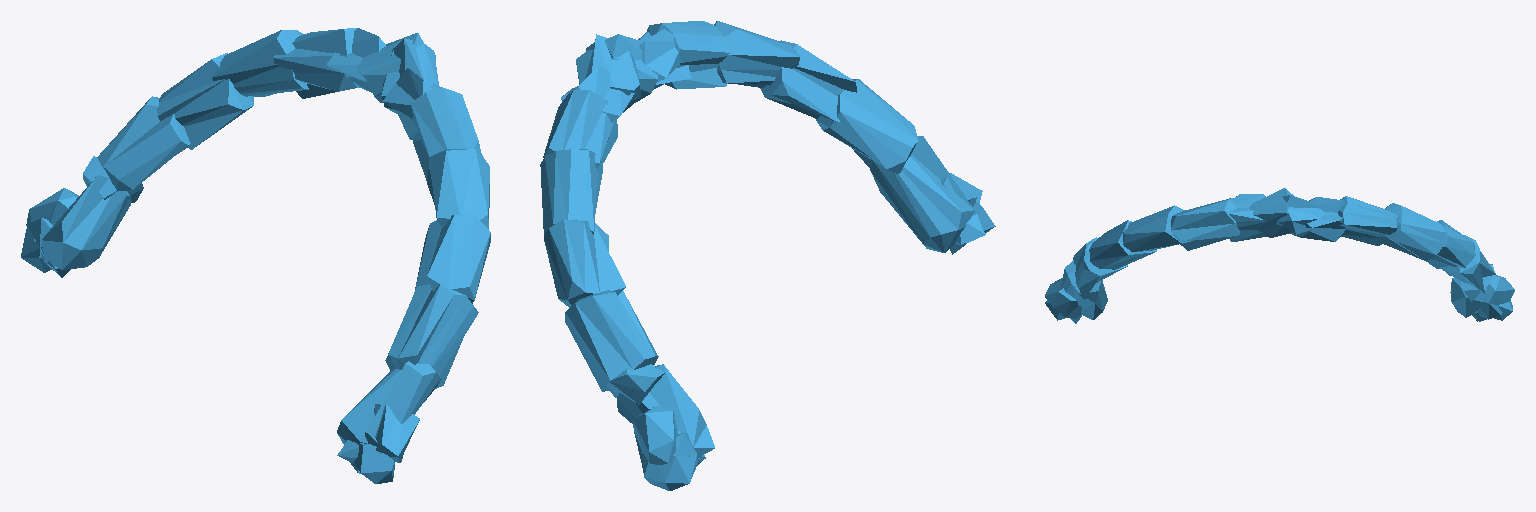
The robot description file, URDF, robot "partnet_3157ca03de3655acf3891d3e63e0baa5":
<?xml version="1.0" ?><robot name="partnet_3157ca03de3655acf3891d3e63e0baa5">
	<link name="base"/>
	<link name="link_0">
		<visual>
			<origin xyz="0 -0.430500873641537 0.06576132556510857"/>
			<geometry>
				<mesh filename="new_objs/100439_link_0_6.obj"/>
			</geometry>
		</visual>
	<visual>
			<origin xyz="0 -0.430500873641537 0.06576132556510857"/>
			<geometry>
				<mesh filename="new_objs/100439_link_0_4.obj"/>
			</geometry>
		</visual>
	<visual>
			<origin xyz="0 -0.430500873641537 0.06576132556510857"/>
			<geometry>
				<mesh filename="new_objs/100439_link_0_18.obj"/>
			</geometry>
		</visual>
	<visual>
			<origin xyz="0 -0.430500873641537 0.06576132556510857"/>
			<geometry>
				<mesh filename="new_objs/100439_link_0_12.obj"/>
			</geometry>
		</visual>
	<visual>
			<origin xyz="0 -0.430500873641537 0.06576132556510857"/>
			<geometry>
				<mesh filename="new_objs/100439_link_0_17.obj"/>
			</geometry>
		</visual>
	<visual>
			<origin xyz="0 -0.430500873641537 0.06576132556510857"/>
			<geometry>
				<mesh filename="new_objs/100439_link_0_20.obj"/>
			</geometry>
		</visual>
	<visual>
			<origin xyz="0 -0.430500873641537 0.06576132556510857"/>
			<geometry>
				<mesh filename="new_objs/100439_link_0_11.obj"/>
			</geometry>
		</visual>
	<visual>
			<origin xyz="0 -0.430500873641537 0.06576132556510857"/>
			<geometry>
				<mesh filename="new_objs/100439_link_0_23.obj"/>
			</geometry>
		</visual>
	<visual>
			<origin xyz="0 -0.430500873641537 0.06576132556510857"/>
			<geometry>
				<mesh filename="new_objs/100439_link_0_22.obj"/>
			</geometry>
		</visual>
	<visual>
			<origin xyz="0 -0.430500873641537 0.06576132556510857"/>
			<geometry>
				<mesh filename="new_objs/100439_link_0_7.obj"/>
			</geometry>
		</visual>
	<visual>
			<origin xyz="0 -0.430500873641537 0.06576132556510857"/>
			<geometry>
				<mesh filename="new_objs/100439_link_0_8.obj"/>
			</geometry>
		</visual>
	<visual>
			<origin xyz="0 -0.430500873641537 0.06576132556510857"/>
			<geometry>
				<mesh filename="new_objs/100439_link_0_21.obj"/>
			</geometry>
		</visual>
	<visual>
			<origin xyz="0 -0.430500873641537 0.06576132556510857"/>
			<geometry>
				<mesh filename="new_objs/100439_link_0_9.obj"/>
			</geometry>
		</visual>
	<visual>
			<origin xyz="0 -0.430500873641537 0.06576132556510857"/>
			<geometry>
				<mesh filename="new_objs/100439_link_0_16.obj"/>
			</geometry>
		</visual>
	<visual>
			<origin xyz="0 -0.430500873641537 0.06576132556510857"/>
			<geometry>
				<mesh filename="new_objs/100439_link_0_10.obj"/>
			</geometry>
		</visual>
	<visual>
			<origin xyz="0 -0.430500873641537 0.06576132556510857"/>
			<geometry>
				<mesh filename="new_objs/100439_link_0_2.obj"/>
			</geometry>
		</visual>
	<visual>
			<origin xyz="0 -0.430500873641537 0.06576132556510857"/>
			<geometry>
				<mesh filename="new_objs/100439_link_0_19.obj"/>
			</geometry>
		</visual>
	<visual>
			<origin xyz="0 -0.430500873641537 0.06576132556510857"/>
			<geometry>
				<mesh filename="new_objs/100439_link_0_14.obj"/>
			</geometry>
		</visual>
	<visual>
			<origin xyz="0 -0.430500873641537 0.06576132556510857"/>
			<geometry>
				<mesh filename="new_objs/100439_link_0_5.obj"/>
			</geometry>
		</visual>
	<visual>
			<origin xyz="0 -0.430500873641537 0.06576132556510857"/>
			<geometry>
				<mesh filename="new_objs/100439_link_0_15.obj"/>
			</geometry>
		</visual>
	<visual>
			<origin xyz="0 -0.430500873641537 0.06576132556510857"/>
			<geometry>
				<mesh filename="new_objs/100439_link_0_1.obj"/>
			</geometry>
		</visual>
	<visual>
			<origin xyz="0 -0.430500873641537 0.06576132556510857"/>
			<geometry>
				<mesh filename="new_objs/100439_link_0_3.obj"/>
			</geometry>
		</visual>
	<visual>
			<origin xyz="0 -0.430500873641537 0.06576132556510857"/>
			<geometry>
				<mesh filename="new_objs/100439_link_0_13.obj"/>
			</geometry>
		</visual>
	<visual>
			<origin xyz="0 -0.430500873641537 0.06576132556510857"/>
			<geometry>
				<mesh filename="new_objs/100439_link_0_0.obj"/>
			</geometry>
		</visual>
	
		<collision>
			<origin xyz="0 -0.430500873641537 0.06576132556510857"/>
			<geometry>
				<mesh filename="new_objs/100439_link_0_6.obj"/>
			</geometry>
		</collision><collision>
			<origin xyz="0 -0.430500873641537 0.06576132556510857"/>
			<geometry>
				<mesh filename="new_objs/100439_link_0_4.obj"/>
			</geometry>
		</collision><collision>
			<origin xyz="0 -0.430500873641537 0.06576132556510857"/>
			<geometry>
				<mesh filename="new_objs/100439_link_0_18.obj"/>
			</geometry>
		</collision><collision>
			<origin xyz="0 -0.430500873641537 0.06576132556510857"/>
			<geometry>
				<mesh filename="new_objs/100439_link_0_12.obj"/>
			</geometry>
		</collision><collision>
			<origin xyz="0 -0.430500873641537 0.06576132556510857"/>
			<geometry>
				<mesh filename="new_objs/100439_link_0_17.obj"/>
			</geometry>
		</collision><collision>
			<origin xyz="0 -0.430500873641537 0.06576132556510857"/>
			<geometry>
				<mesh filename="new_objs/100439_link_0_20.obj"/>
			</geometry>
		</collision><collision>
			<origin xyz="0 -0.430500873641537 0.06576132556510857"/>
			<geometry>
				<mesh filename="new_objs/100439_link_0_11.obj"/>
			</geometry>
		</collision><collision>
			<origin xyz="0 -0.430500873641537 0.06576132556510857"/>
			<geometry>
				<mesh filename="new_objs/100439_link_0_23.obj"/>
			</geometry>
		</collision><collision>
			<origin xyz="0 -0.430500873641537 0.06576132556510857"/>
			<geometry>
				<mesh filename="new_objs/100439_link_0_22.obj"/>
			</geometry>
		</collision><collision>
			<origin xyz="0 -0.430500873641537 0.06576132556510857"/>
			<geometry>
				<mesh filename="new_objs/100439_link_0_7.obj"/>
			</geometry>
		</collision><collision>
			<origin xyz="0 -0.430500873641537 0.06576132556510857"/>
			<geometry>
				<mesh filename="new_objs/100439_link_0_8.obj"/>
			</geometry>
		</collision><collision>
			<origin xyz="0 -0.430500873641537 0.06576132556510857"/>
			<geometry>
				<mesh filename="new_objs/100439_link_0_21.obj"/>
			</geometry>
		</collision><collision>
			<origin xyz="0 -0.430500873641537 0.06576132556510857"/>
			<geometry>
				<mesh filename="new_objs/100439_link_0_9.obj"/>
			</geometry>
		</collision><collision>
			<origin xyz="0 -0.430500873641537 0.06576132556510857"/>
			<geometry>
				<mesh filename="new_objs/100439_link_0_16.obj"/>
			</geometry>
		</collision><collision>
			<origin xyz="0 -0.430500873641537 0.06576132556510857"/>
			<geometry>
				<mesh filename="new_objs/100439_link_0_10.obj"/>
			</geometry>
		</collision><collision>
			<origin xyz="0 -0.430500873641537 0.06576132556510857"/>
			<geometry>
				<mesh filename="new_objs/100439_link_0_2.obj"/>
			</geometry>
		</collision><collision>
			<origin xyz="0 -0.430500873641537 0.06576132556510857"/>
			<geometry>
				<mesh filename="new_objs/100439_link_0_19.obj"/>
			</geometry>
		</collision><collision>
			<origin xyz="0 -0.430500873641537 0.06576132556510857"/>
			<geometry>
				<mesh filename="new_objs/100439_link_0_14.obj"/>
			</geometry>
		</collision><collision>
			<origin xyz="0 -0.430500873641537 0.06576132556510857"/>
			<geometry>
				<mesh filename="new_objs/100439_link_0_5.obj"/>
			</geometry>
		</collision><collision>
			<origin xyz="0 -0.430500873641537 0.06576132556510857"/>
			<geometry>
				<mesh filename="new_objs/100439_link_0_15.obj"/>
			</geometry>
		</collision><collision>
			<origin xyz="0 -0.430500873641537 0.06576132556510857"/>
			<geometry>
				<mesh filename="new_objs/100439_link_0_1.obj"/>
			</geometry>
		</collision><collision>
			<origin xyz="0 -0.430500873641537 0.06576132556510857"/>
			<geometry>
				<mesh filename="new_objs/100439_link_0_3.obj"/>
			</geometry>
		</collision><collision>
			<origin xyz="0 -0.430500873641537 0.06576132556510857"/>
			<geometry>
				<mesh filename="new_objs/100439_link_0_13.obj"/>
			</geometry>
		</collision><collision>
			<origin xyz="0 -0.430500873641537 0.06576132556510857"/>
			<geometry>
				<mesh filename="new_objs/100439_link_0_0.obj"/>
			</geometry>
		</collision></link>
	<joint name="joint_0" type="revolute">
		<origin xyz="0 0.430500873641537 -0.06576132556510857"/>
		<axis xyz="-1 0 0"/>
		<child link="link_0"/>
		<parent link="link_1"/>
		<limit lower="-2.1802653015913163" upper="1.407433508808227"/>
	</joint>
	<link name="link_1">
		<collision>
			<origin xyz="0 0 0"/>
			<geometry>
				<mesh filename="new_objs/100439_link_1_6.obj"/>
			</geometry>
		</collision>
	<collision>
			<origin xyz="0 0 0"/>
			<geometry>
				<mesh filename="new_objs/100439_link_1_5.obj"/>
			</geometry>
		</collision>
	<collision>
			<origin xyz="0 0 0"/>
			<geometry>
				<mesh filename="new_objs/100439_link_1_28.obj"/>
			</geometry>
		</collision>
	<collision>
			<origin xyz="0 0 0"/>
			<geometry>
				<mesh filename="new_objs/100439_link_1_0.obj"/>
			</geometry>
		</collision>
	<collision>
			<origin xyz="0 0 0"/>
			<geometry>
				<mesh filename="new_objs/100439_link_1_32.obj"/>
			</geometry>
		</collision>
	<collision>
			<origin xyz="0 0 0"/>
			<geometry>
				<mesh filename="new_objs/100439_link_1_7.obj"/>
			</geometry>
		</collision>
	<collision>
			<origin xyz="0 0 0"/>
			<geometry>
				<mesh filename="new_objs/100439_link_1_25.obj"/>
			</geometry>
		</collision>
	<collision>
			<origin xyz="0 0 0"/>
			<geometry>
				<mesh filename="new_objs/100439_link_1_22.obj"/>
			</geometry>
		</collision>
	<collision>
			<origin xyz="0 0 0"/>
			<geometry>
				<mesh filename="new_objs/100439_link_1_15.obj"/>
			</geometry>
		</collision>
	<collision>
			<origin xyz="0 0 0"/>
			<geometry>
				<mesh filename="new_objs/100439_link_1_2.obj"/>
			</geometry>
		</collision>
	<collision>
			<origin xyz="0 0 0"/>
			<geometry>
				<mesh filename="new_objs/100439_link_1_35.obj"/>
			</geometry>
		</collision>
	<collision>
			<origin xyz="0 0 0"/>
			<geometry>
				<mesh filename="new_objs/100439_link_1_17.obj"/>
			</geometry>
		</collision>
	<collision>
			<origin xyz="0 0 0"/>
			<geometry>
				<mesh filename="new_objs/100439_link_1_3.obj"/>
			</geometry>
		</collision>
	<collision>
			<origin xyz="0 0 0"/>
			<geometry>
				<mesh filename="new_objs/100439_link_1_19.obj"/>
			</geometry>
		</collision>
	<collision>
			<origin xyz="0 0 0"/>
			<geometry>
				<mesh filename="new_objs/100439_link_1_23.obj"/>
			</geometry>
		</collision>
	<collision>
			<origin xyz="0 0 0"/>
			<geometry>
				<mesh filename="new_objs/100439_link_1_8.obj"/>
			</geometry>
		</collision>
	<collision>
			<origin xyz="0 0 0"/>
			<geometry>
				<mesh filename="new_objs/100439_link_1_38.obj"/>
			</geometry>
		</collision>
	<collision>
			<origin xyz="0 0 0"/>
			<geometry>
				<mesh filename="new_objs/100439_link_1_37.obj"/>
			</geometry>
		</collision>
	<collision>
			<origin xyz="0 0 0"/>
			<geometry>
				<mesh filename="new_objs/100439_link_1_14.obj"/>
			</geometry>
		</collision>
	<collision>
			<origin xyz="0 0 0"/>
			<geometry>
				<mesh filename="new_objs/100439_link_1_10.obj"/>
			</geometry>
		</collision>
	<collision>
			<origin xyz="0 0 0"/>
			<geometry>
				<mesh filename="new_objs/100439_link_1_1.obj"/>
			</geometry>
		</collision>
	<collision>
			<origin xyz="0 0 0"/>
			<geometry>
				<mesh filename="new_objs/100439_link_1_21.obj"/>
			</geometry>
		</collision>
	<collision>
			<origin xyz="0 0 0"/>
			<geometry>
				<mesh filename="new_objs/100439_link_1_26.obj"/>
			</geometry>
		</collision>
	<collision>
			<origin xyz="0 0 0"/>
			<geometry>
				<mesh filename="new_objs/100439_link_1_18.obj"/>
			</geometry>
		</collision>
	<collision>
			<origin xyz="0 0 0"/>
			<geometry>
				<mesh filename="new_objs/100439_link_1_13.obj"/>
			</geometry>
		</collision>
	<collision>
			<origin xyz="0 0 0"/>
			<geometry>
				<mesh filename="new_objs/100439_link_1_33.obj"/>
			</geometry>
		</collision>
	<collision>
			<origin xyz="0 0 0"/>
			<geometry>
				<mesh filename="new_objs/100439_link_1_24.obj"/>
			</geometry>
		</collision>
	<collision>
			<origin xyz="0 0 0"/>
			<geometry>
				<mesh filename="new_objs/100439_link_1_20.obj"/>
			</geometry>
		</collision>
	<collision>
			<origin xyz="0 0 0"/>
			<geometry>
				<mesh filename="new_objs/100439_link_1_27.obj"/>
			</geometry>
		</collision>
	<collision>
			<origin xyz="0 0 0"/>
			<geometry>
				<mesh filename="new_objs/100439_link_1_29.obj"/>
			</geometry>
		</collision>
	<collision>
			<origin xyz="0 0 0"/>
			<geometry>
				<mesh filename="new_objs/100439_link_1_11.obj"/>
			</geometry>
		</collision>
	<collision>
			<origin xyz="0 0 0"/>
			<geometry>
				<mesh filename="new_objs/100439_link_1_4.obj"/>
			</geometry>
		</collision>
	<collision>
			<origin xyz="0 0 0"/>
			<geometry>
				<mesh filename="new_objs/100439_link_1_34.obj"/>
			</geometry>
		</collision>
	<collision>
			<origin xyz="0 0 0"/>
			<geometry>
				<mesh filename="new_objs/100439_link_1_30.obj"/>
			</geometry>
		</collision>
	<collision>
			<origin xyz="0 0 0"/>
			<geometry>
				<mesh filename="new_objs/100439_link_1_12.obj"/>
			</geometry>
		</collision>
	<collision>
			<origin xyz="0 0 0"/>
			<geometry>
				<mesh filename="new_objs/100439_link_1_16.obj"/>
			</geometry>
		</collision>
	<collision>
			<origin xyz="0 0 0"/>
			<geometry>
				<mesh filename="new_objs/100439_link_1_36.obj"/>
			</geometry>
		</collision>
	<collision>
			<origin xyz="0 0 0"/>
			<geometry>
				<mesh filename="new_objs/100439_link_1_9.obj"/>
			</geometry>
		</collision>
	<collision>
			<origin xyz="0 0 0"/>
			<geometry>
				<mesh filename="new_objs/100439_link_1_31.obj"/>
			</geometry>
		</collision>
	<visual name="base_body-part[&quot;id]">
			<origin xyz="0 0 0"/>
			<geometry>
				<mesh filename="textured_objs/original-2.obj"/>
			</geometry>
		</visual>
		</link>
	<joint name="joint_1" type="fixed">
		<origin rpy="1.570796326794897 0 -1.570796326794897" xyz="0 0 0"/>
		<child link="link_1"/>
		<parent link="base"/>
	</joint>
</robot>

--- What the picture shows (computed from the rendered views, not written in the file) ---
3 views of the same robot in one strip: view 1: azimuth 30°, elevation 25°; view 2: azimuth 150°, elevation 25°; view 3: azimuth 270°, elevation 25° (orthographic).
Robot: partnet_3157ca03de3655acf3891d3e63e0baa5 — 3 links, 2 joints (1 revolute, 1 fixed); root link base; default pose: every joint at zero.
Visible links, largest first — view 1: link_0; view 2: link_0; view 3: link_0.
Link boxes in pixels (x1,y1,x2,y2): link_0: (21, 28, 490, 483); link_0: (540, 21, 995, 490); link_0: (1045, 188, 1514, 323).
Bounding box of the posed robot: 0.5904 × 1.32 × 0.6238 m (x, y, z).
Meshes: 25 distinct files referenced, 24 mesh visuals loaded (24 OBJ); not drawn: 1 (reference not matched to a file when rendering).
